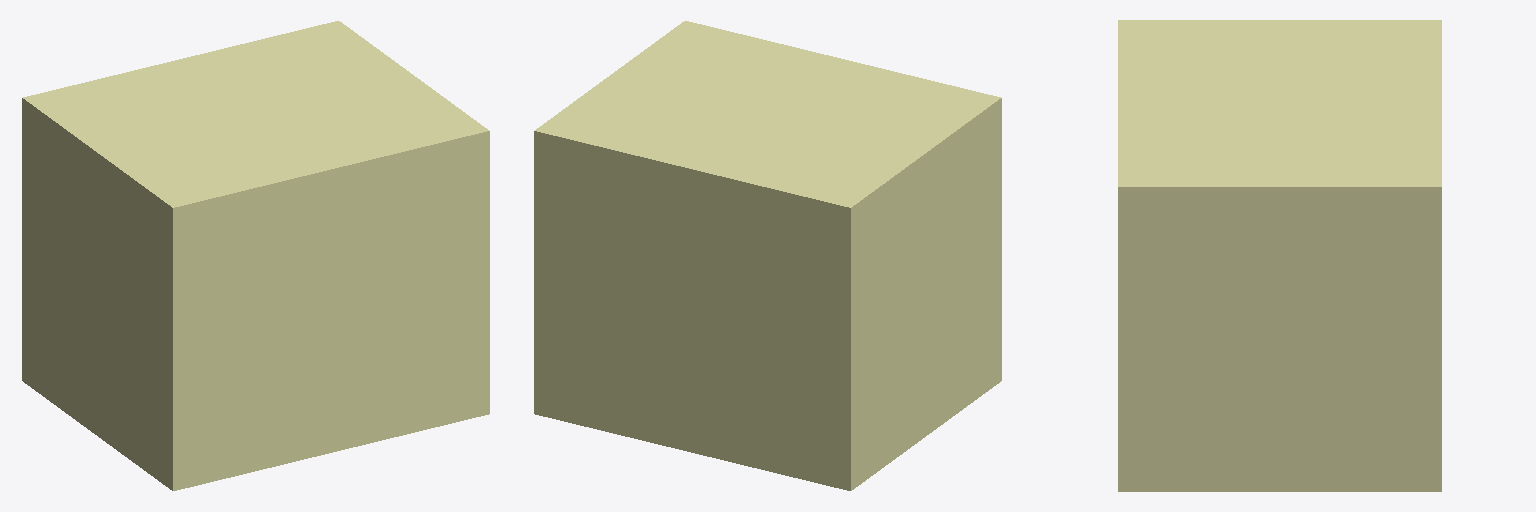
URDF robot description (box.urdf):
<?xml version="1.0" ?>
<robot name="box.urdf">
  <link name="baseLink">
    <contact>
      <lateral_friction value="1.0"/>
      <rolling_friction value="0.0001"/>
      <inertia_scaling value="3.0"/>
    </contact>
    <inertial>
      <origin rpy="0 0 0" xyz="0 0 0"/>
       <mass value="0.1"/>
       <inertia ixx="1" ixy="0" ixz="0" iyy="1" iyz="0" izz="1"/>
    </inertial>
    <visual>
      <origin rpy="0 0 0" xyz="0 0 0"/>
      <geometry>
        <!-- <box size="0.325 0.268 0.278"/> -->
        <mesh filename="box/box.obj" scale="0.325 0.268 0.278"/>
      </geometry>
      <material name="white">
        <color rgba="0.9 0.9 0.7 1"/>
      </material>
    </visual>
    <collision>
      <origin rpy="0 0 0" xyz="0 0 0"/>
      <geometry>
        <mesh filename="box/box.obj" scale="0.325 0.268 0.278"/>
	 	    <!-- <box size="0.325 0.268 0.278"/> -->
      </geometry>
    </collision>
  </link>
</robot>

--- Render facts (derived) ---
Views: 3 orthographic renders of the robot side by side, from view 1: azimuth 30°, elevation 25°; view 2: azimuth 150°, elevation 25°; view 3: azimuth 270°, elevation 25°.
Robot: box.urdf — 1 links, 0 joints (none); root link baseLink; default pose: every joint at zero.
Links seen in each view (by area): view 1: baseLink; view 2: baseLink; view 3: baseLink.
Link boxes in pixels (x1,y1,x2,y2): baseLink: (22, 21, 489, 490); baseLink: (534, 21, 1001, 490); baseLink: (1118, 20, 1441, 491).
Size in the robot's own frame: 0.325 by 0.268 by 0.278 metres.
1 mesh visuals loaded from 1 distinct referenced files (1 OBJ).
